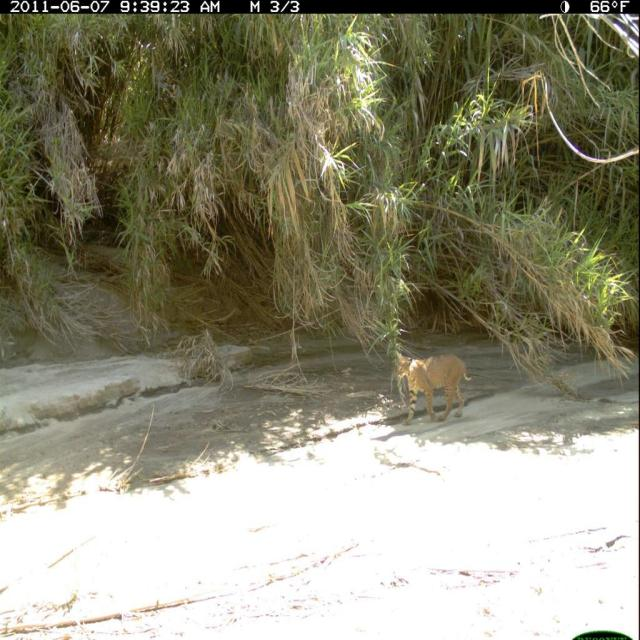bobcat: (395, 342, 476, 436)
